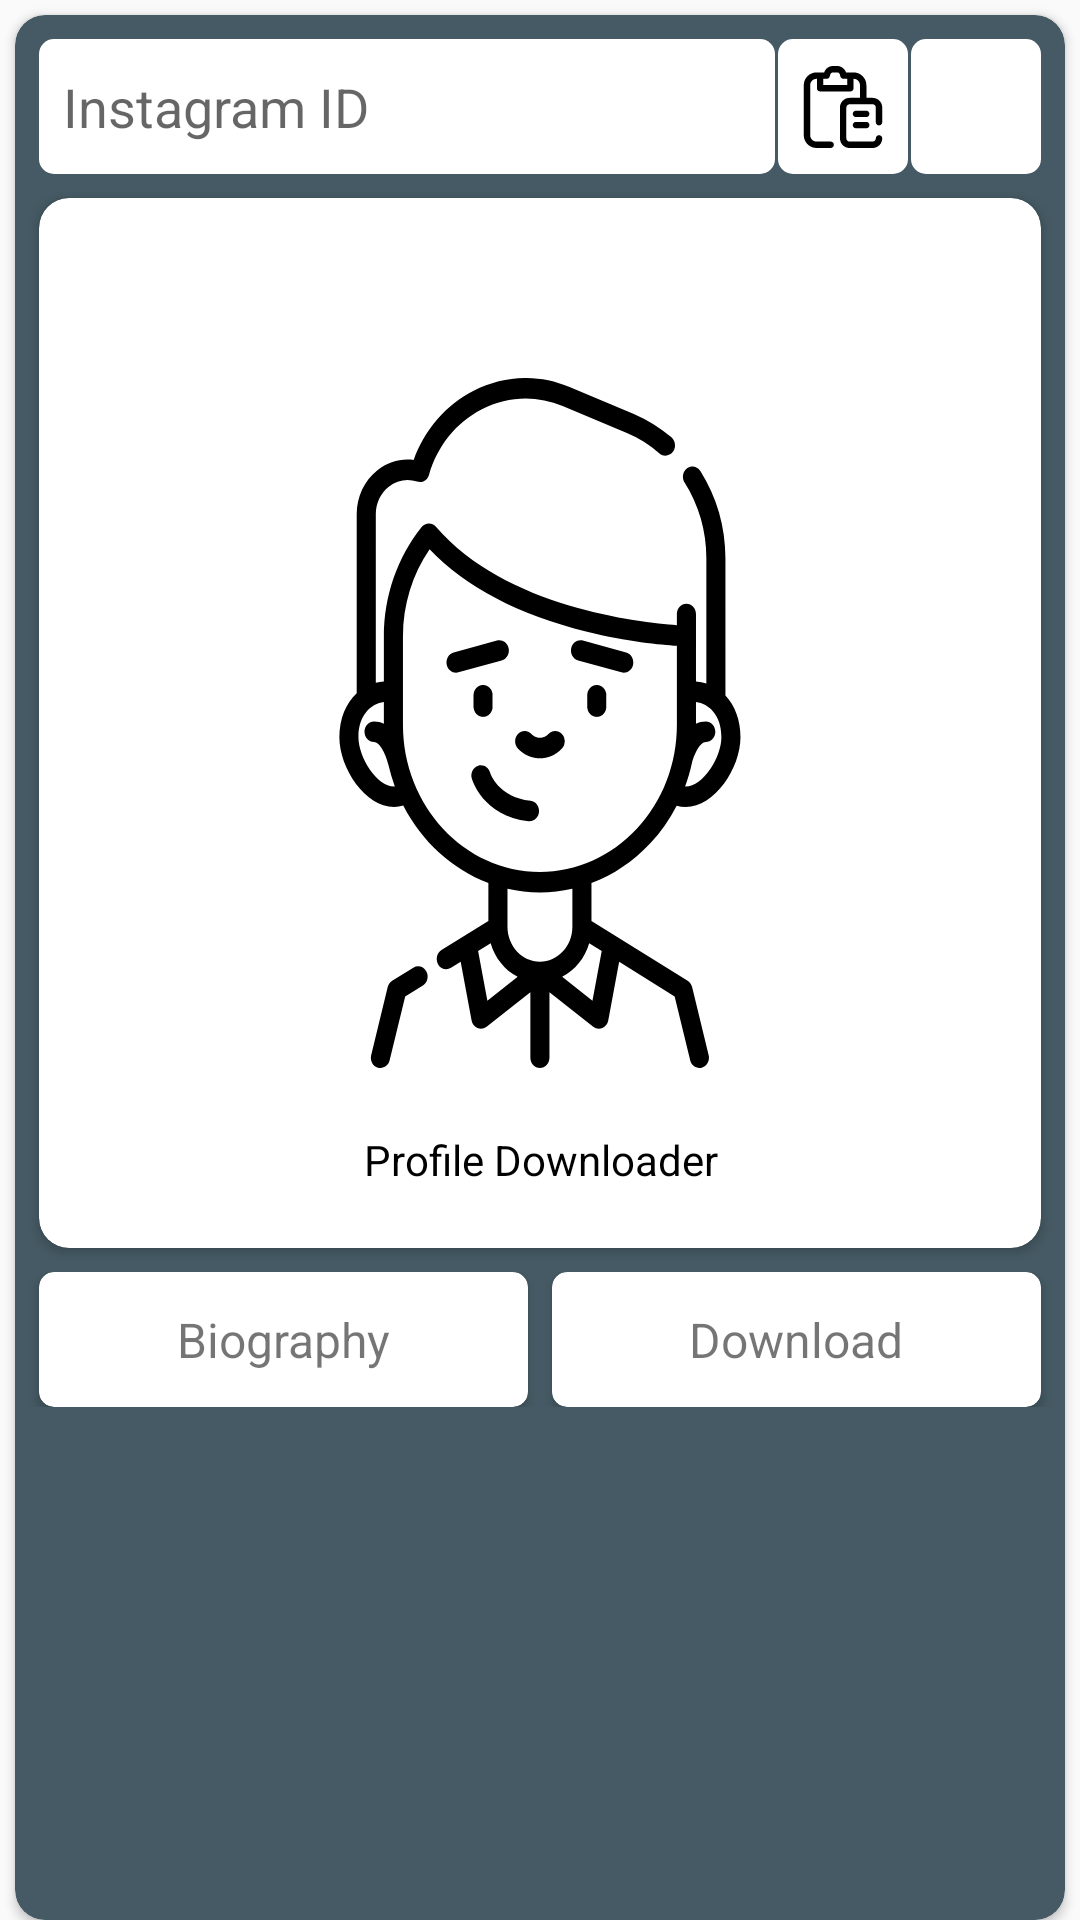

Screen size 1080x1920. Icon name, then its box in pixels as bbox=[x1, y1, x2, y2]:
paste: bbox=[778, 39, 908, 174]
